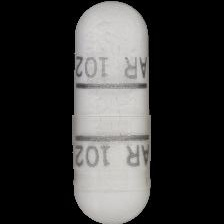68084-947: (0, 0, 224, 224)
